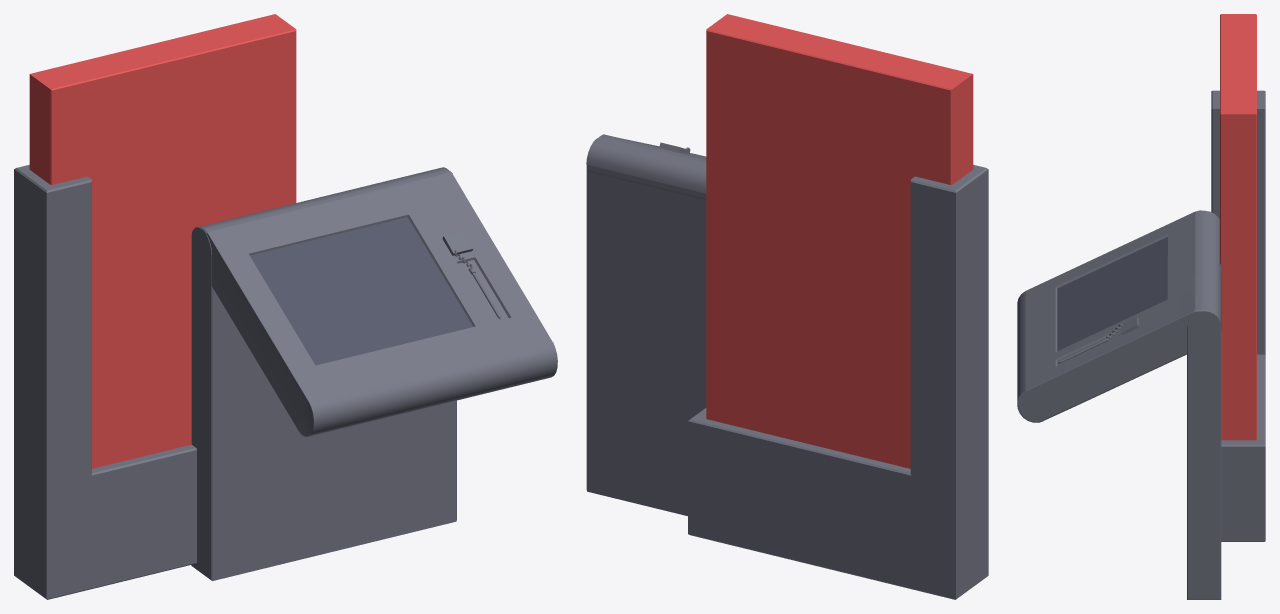
The model's file is kiosk.fbx.
3 renders of one model, left to right at view 1: azimuth 30°, elevation 25°; view 2: azimuth 150°, elevation 25°; view 3: azimuth 270°, elevation 25°, orthographic. The views are drawn at different scales.
Visible parts, largest first — view 1: pCube6452, pCube6455, pCube6453, pCube6454, pCube6457, pCylinder85, pCylinder83; view 2: pCube6452, pCube6455, pCube6453, pCylinder82, pCylinder83; view 3: pCube6454, pCube6452, pCube6453, pCube6455, pCube6457, pCylinder82, pCylinder83, pCylinder85.
Boxes of the visible parts, x1,y1,x2,y2 form: pCube6452: (29, 14, 296, 468); pCube6455: (14, 164, 196, 599); pCube6453: (191, 248, 456, 580); pCube6454: (206, 172, 552, 429); pCube6457: (250, 217, 472, 365); pCylinder85: (297, 342, 557, 436); pCylinder83: (191, 168, 452, 261); pCube6452: (706, 14, 973, 468); pCube6455: (688, 165, 988, 599); pCube6453: (586, 165, 706, 515); pCylinder82: (586, 138, 706, 193); pCylinder83: (587, 134, 706, 199); pCube6454: (1025, 211, 1195, 420); pCube6452: (1220, 14, 1256, 440); pCube6453: (1187, 326, 1221, 599); pCube6455: (1211, 90, 1265, 541); pCube6457: (1057, 237, 1167, 350); pCylinder82: (1187, 211, 1221, 326); pCylinder83: (1194, 210, 1221, 330); pCylinder85: (1017, 291, 1043, 422).
Size of the model in its own units: 161 by 199 by 105.
